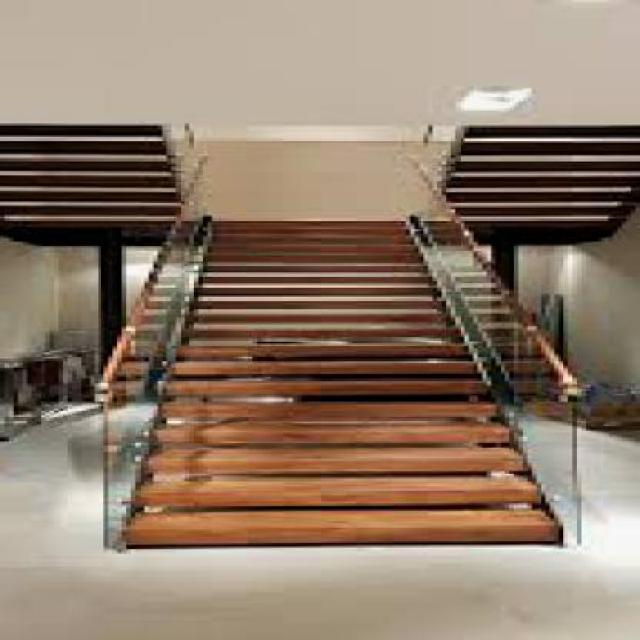stair: (70, 151, 633, 554)
